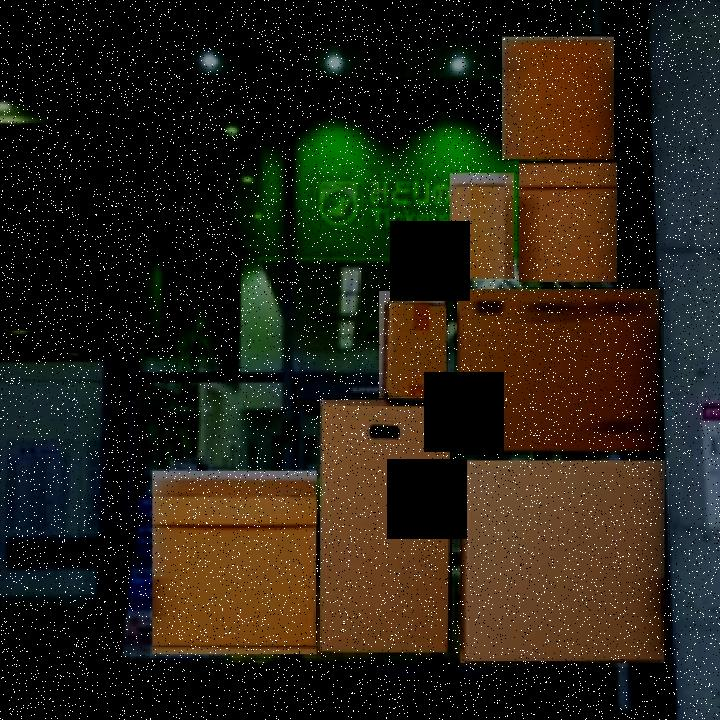box: (458, 458, 669, 667), (319, 397, 455, 657), (454, 287, 664, 455), (150, 469, 321, 658), (500, 35, 618, 163), (520, 160, 622, 285), (379, 291, 448, 400), (449, 172, 517, 281)
